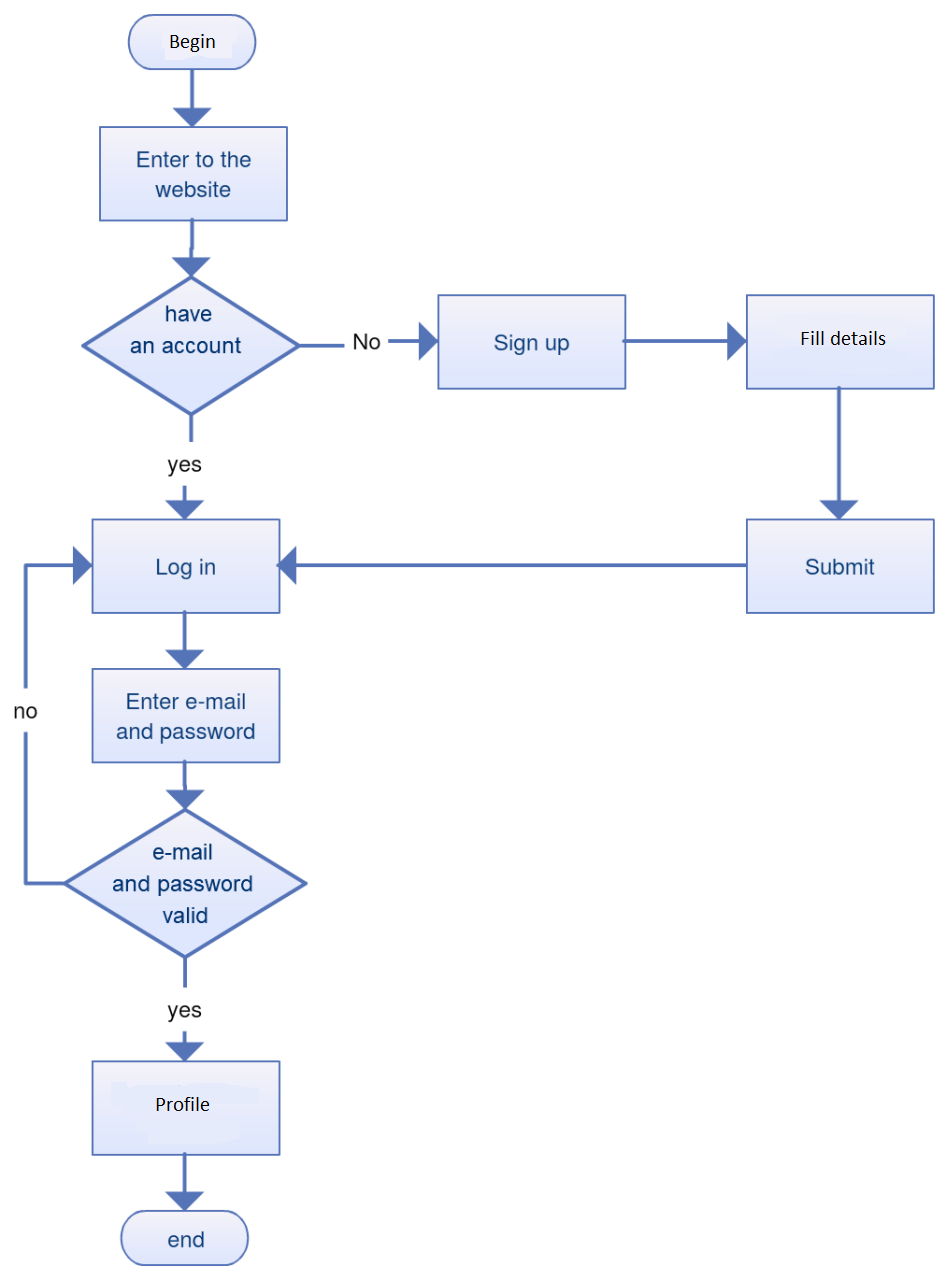arrow: (14, 545, 97, 890), (273, 543, 752, 586), (818, 390, 863, 525), (293, 325, 442, 363), (620, 321, 752, 359), (163, 415, 205, 521), (169, 947, 205, 1059), (169, 219, 214, 282), (165, 606, 205, 670), (167, 1145, 203, 1215), (169, 70, 212, 127), (165, 757, 207, 815)
decision: (56, 798, 316, 961), (79, 272, 303, 419)
process: (430, 284, 636, 396), (83, 510, 287, 621), (85, 1053, 289, 1161), (740, 288, 942, 396), (93, 121, 297, 227), (742, 512, 940, 621), (85, 663, 285, 768)
terminator: (120, 8, 261, 76), (116, 1204, 256, 1270)
text: (109, 845, 256, 925), (112, 686, 261, 745), (132, 139, 256, 204), (128, 304, 248, 357), (795, 325, 895, 353), (491, 327, 573, 361), (148, 547, 222, 580), (803, 551, 877, 578), (158, 449, 212, 482), (163, 27, 222, 57), (150, 1092, 214, 1117), (161, 1225, 210, 1251), (161, 998, 205, 1025), (346, 331, 385, 357), (9, 698, 42, 725)
